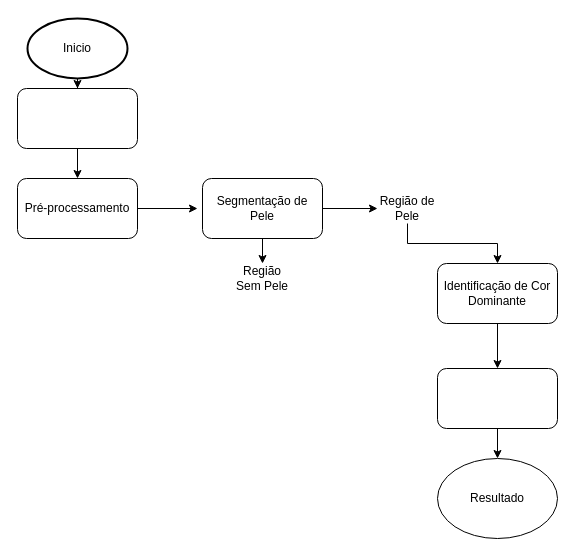
The diagram is 575 pixels wide and 556 high, and some of its shapes have lost their labels. The box of each missing label's shape, as (x1, y1, x2, y2) in pixels:
Carregar Imagem: (16, 88, 138, 148)
Classificação de Tom: (436, 368, 558, 428)
